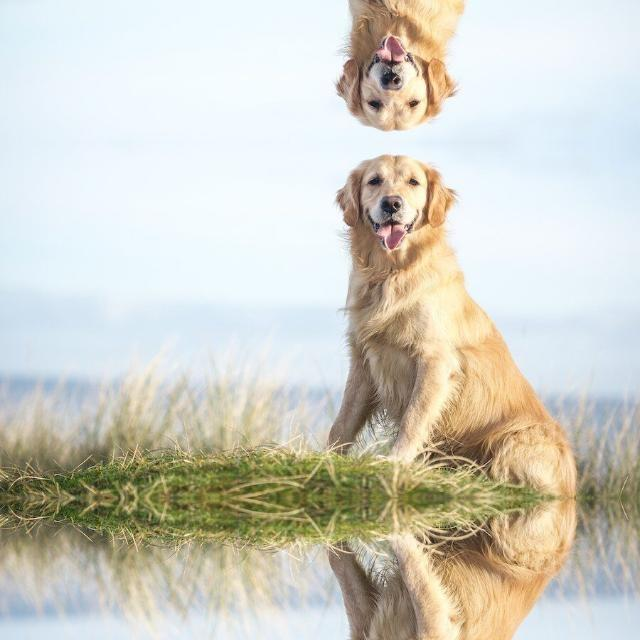dog: (328, 148, 566, 498), (328, 497, 566, 640), (328, 0, 566, 136)
